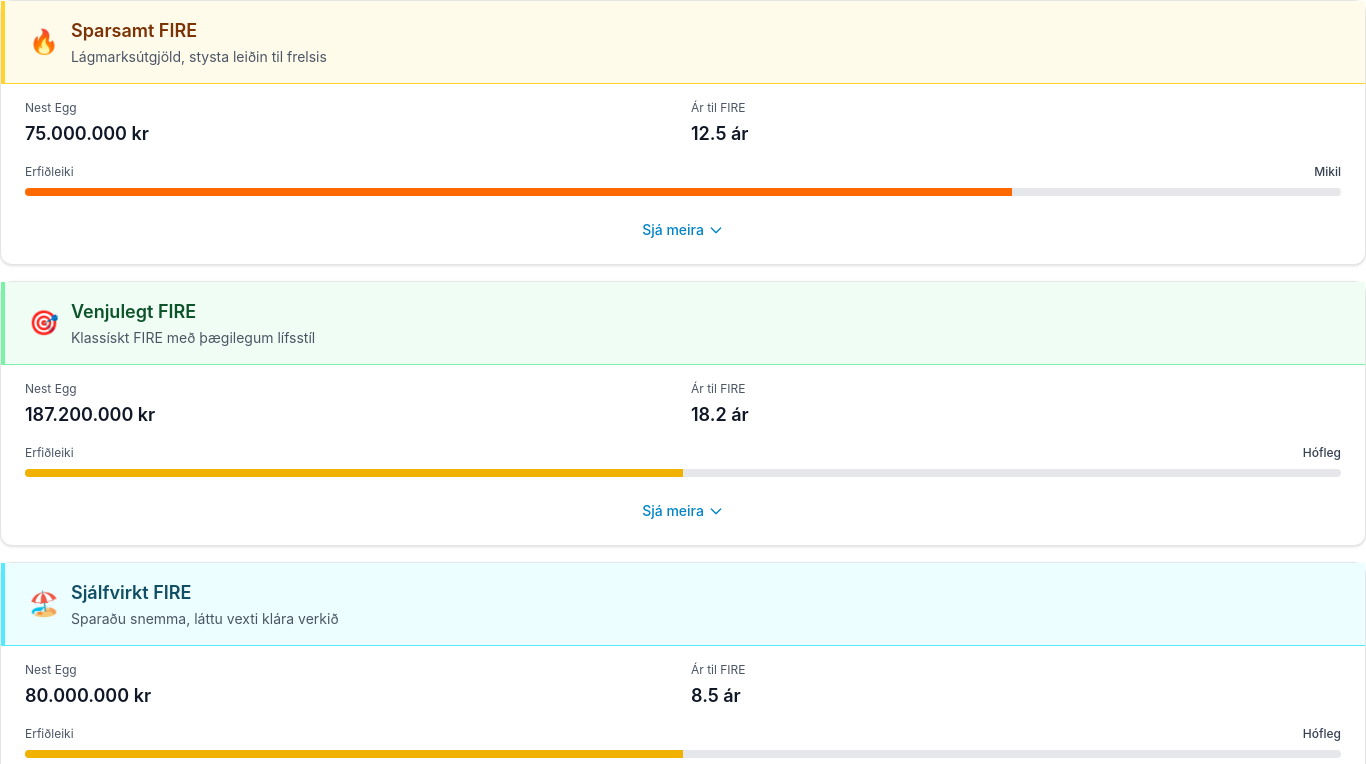
Test: ComparisonCards Component › Expand/Collapse Functionality › expands card when clicking "Sjá meira"
The width and height of the screenshot is (1366, 764).
Click the button "Sjá meira" below "Mikil" at point(683, 230), box [25, 212, 1341, 248]
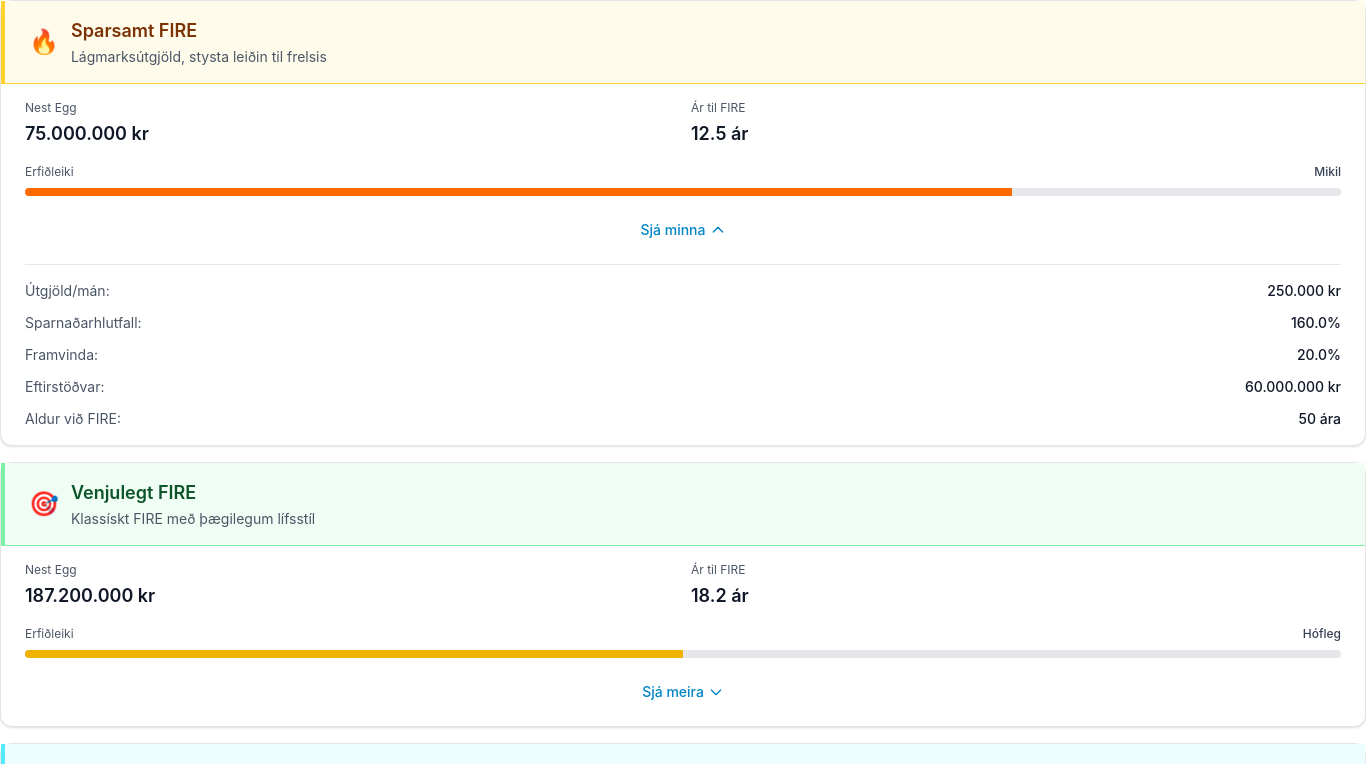
Expected: the text "Útgjöld/mán:" is shown, [25, 281, 110, 301]
Expected: the text "Framvinda:" is shown, [25, 345, 98, 365]
Expected: the text "Eftirstöðvar:" is shown, [25, 377, 104, 397]
